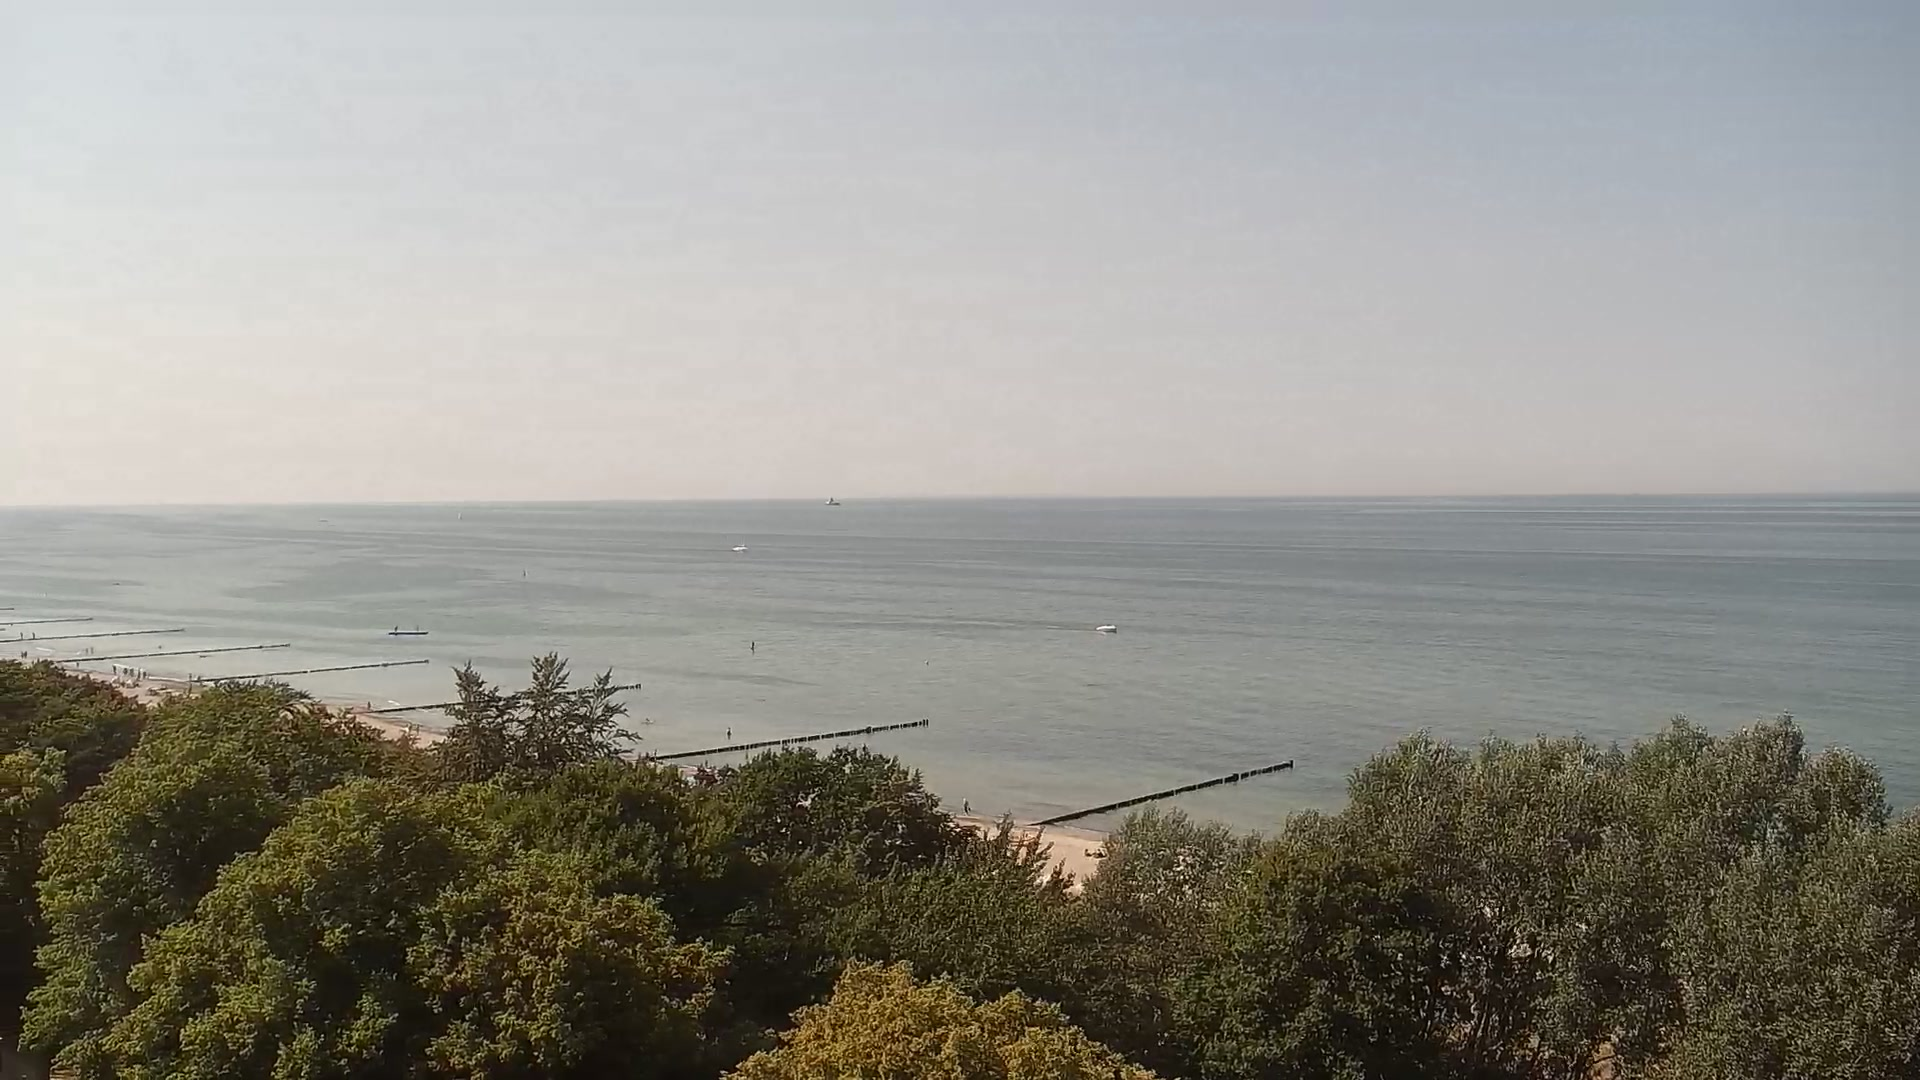human: (962, 796, 971, 817), (1083, 847, 1093, 857), (1094, 848, 1104, 858), (136, 667, 142, 678), (725, 726, 732, 737), (366, 701, 372, 712), (393, 624, 400, 631), (413, 624, 420, 631), (112, 664, 117, 674), (90, 646, 95, 655), (122, 667, 128, 676), (129, 667, 135, 676), (141, 671, 147, 680), (23, 650, 28, 659), (20, 650, 25, 659), (20, 631, 24, 639), (31, 632, 36, 640), (84, 647, 89, 656)
sea: (730, 534, 750, 551), (387, 629, 429, 636), (1095, 623, 1118, 633), (824, 496, 842, 506), (455, 510, 464, 520)
